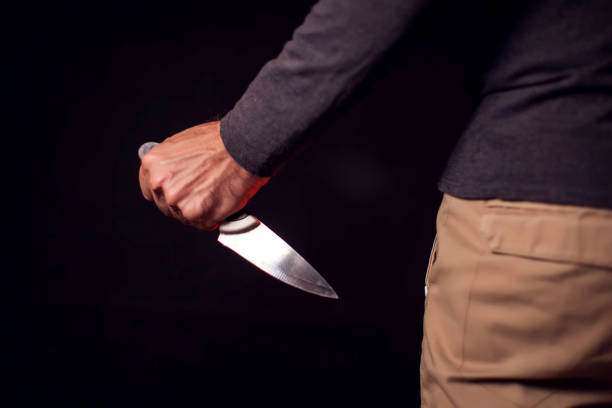knife: (137, 140, 340, 300)
